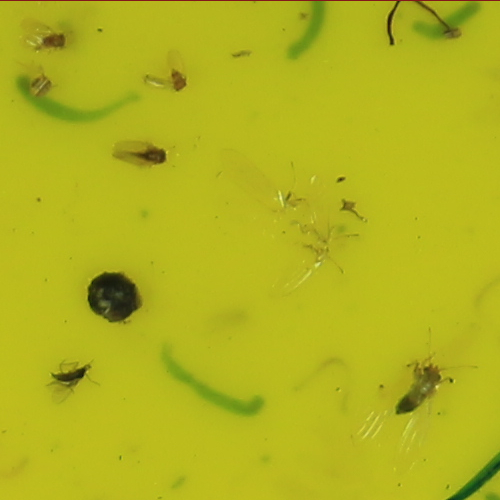Glycaspis: (392, 362, 449, 418)
Platyobria: (164, 64, 190, 94), (40, 31, 66, 47)
psylla: (129, 145, 168, 164)
